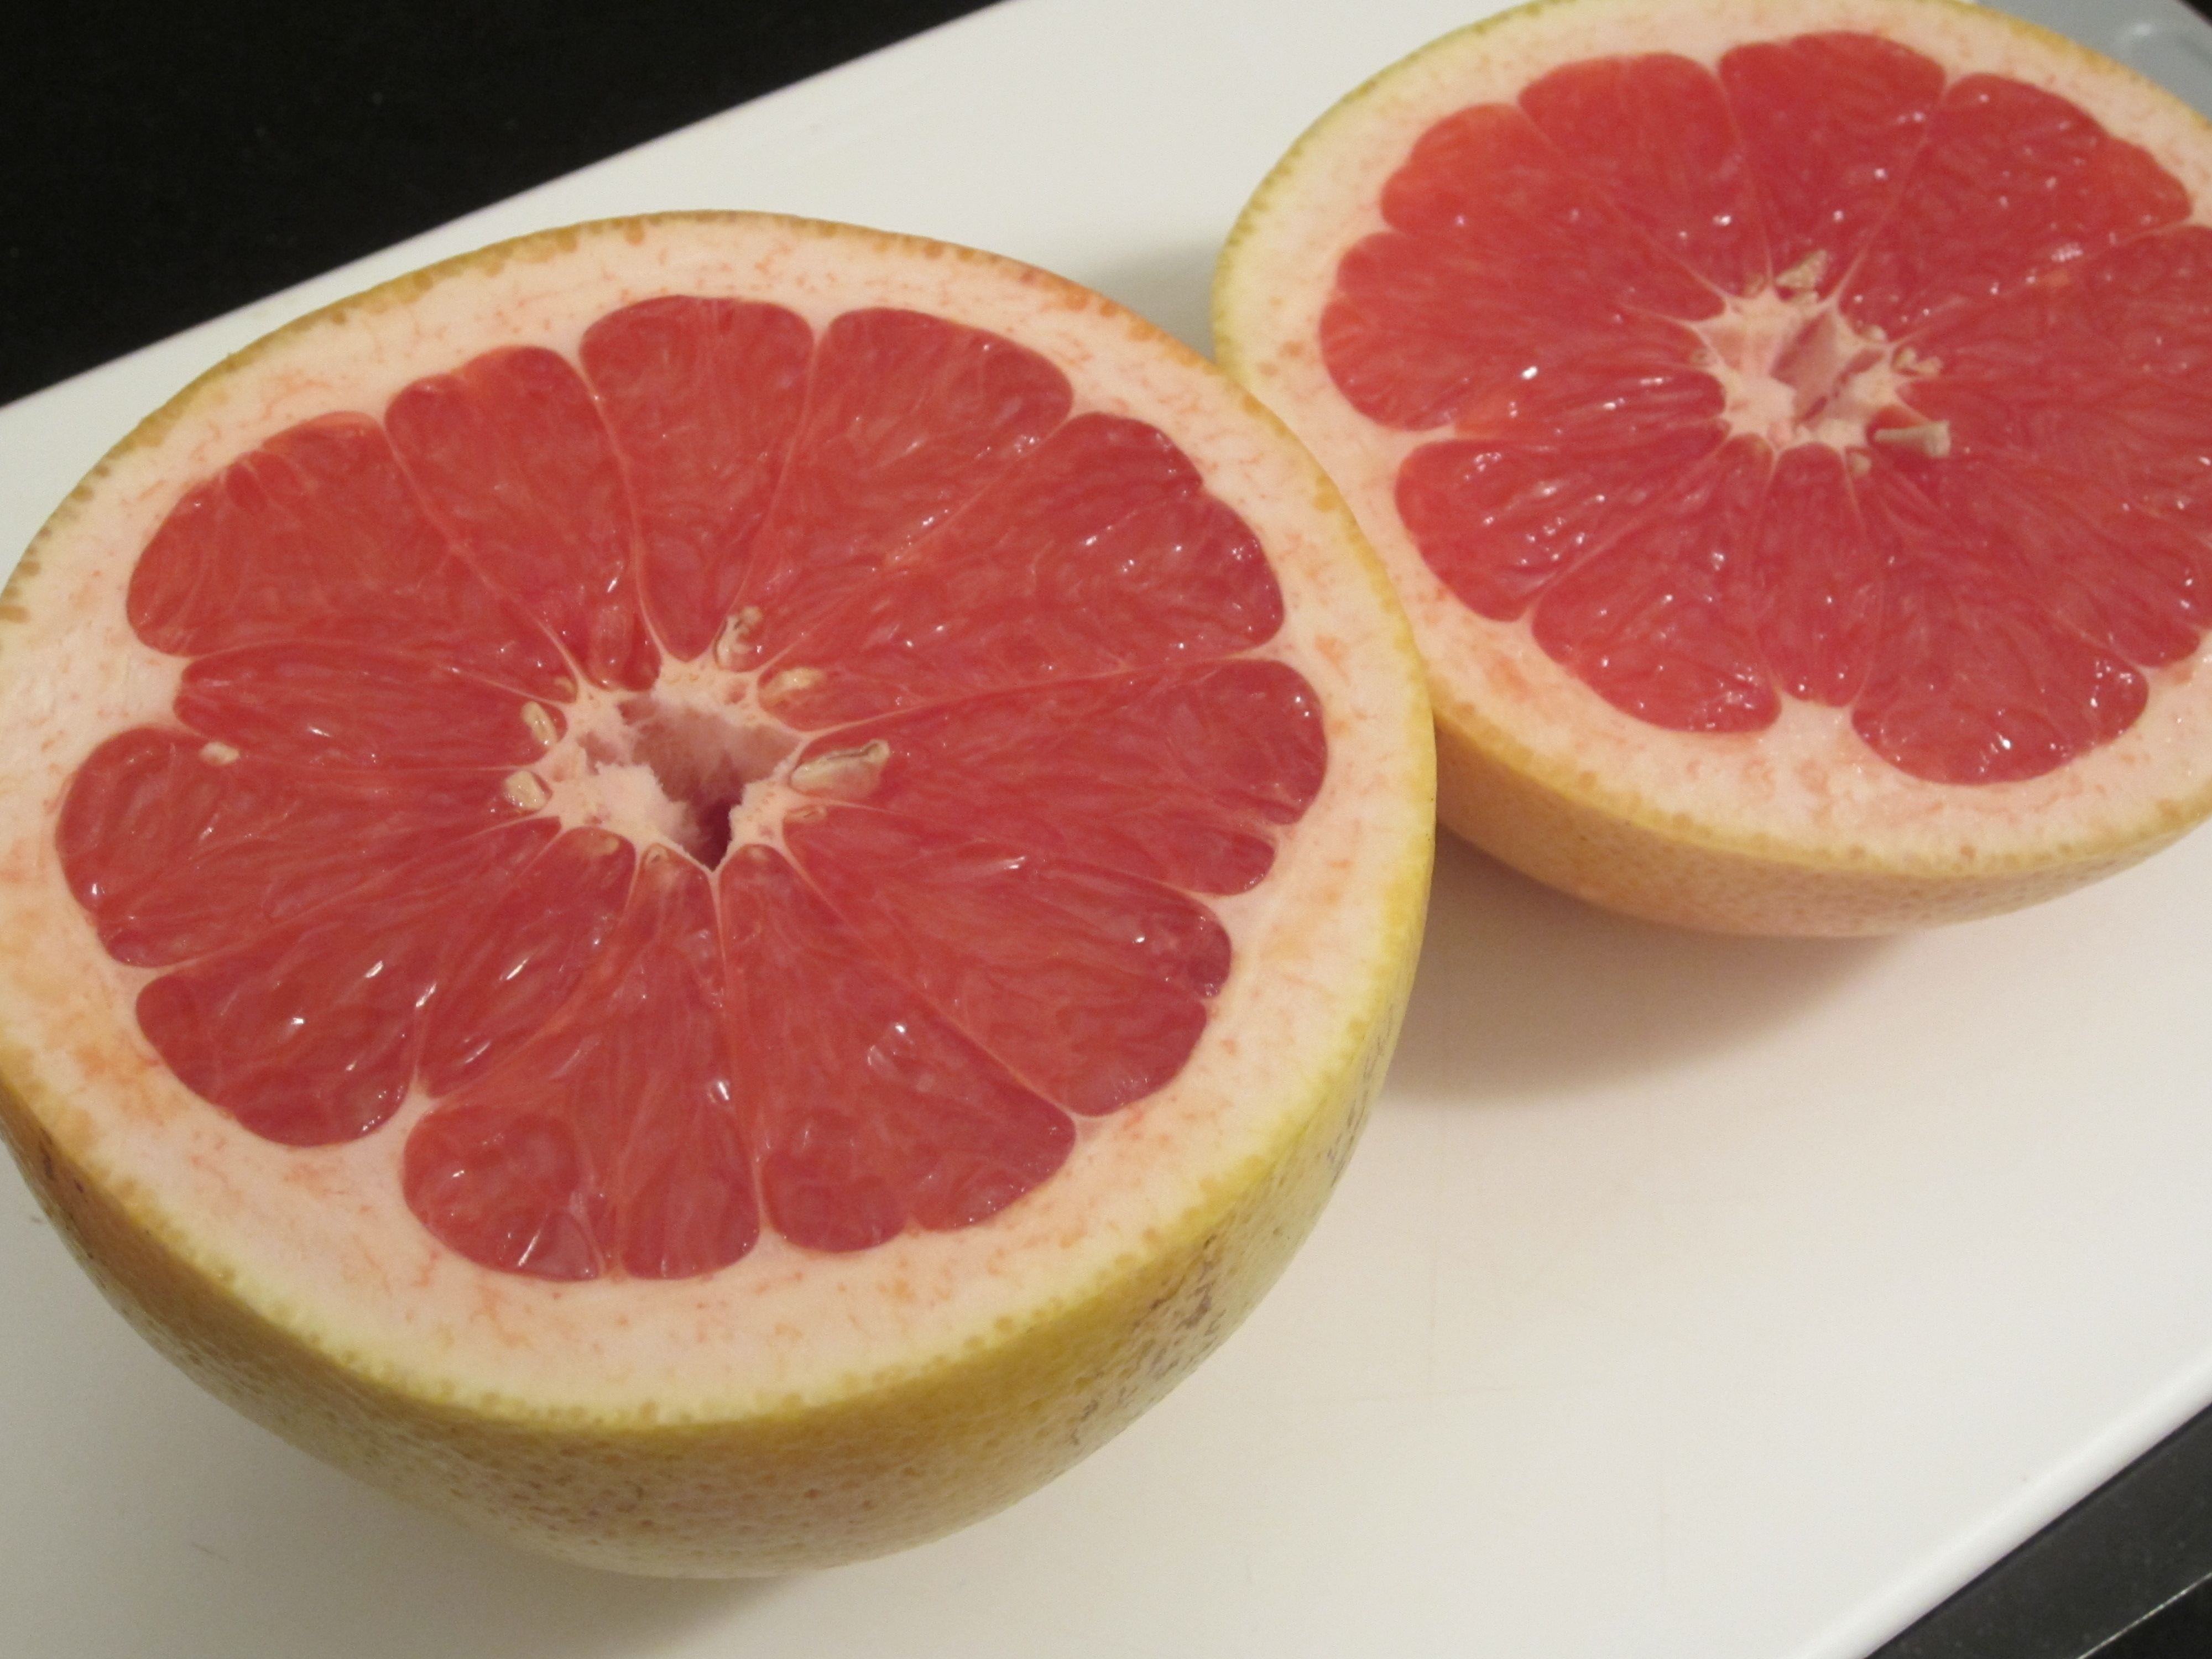grapefruit: (42, 225, 1411, 1486), (1310, 3, 2212, 904)
